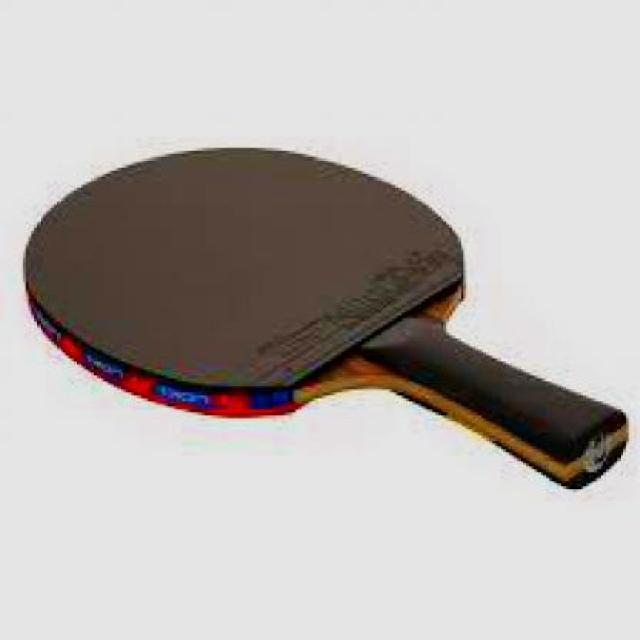table_tennis_racket: (19, 130, 472, 416)
